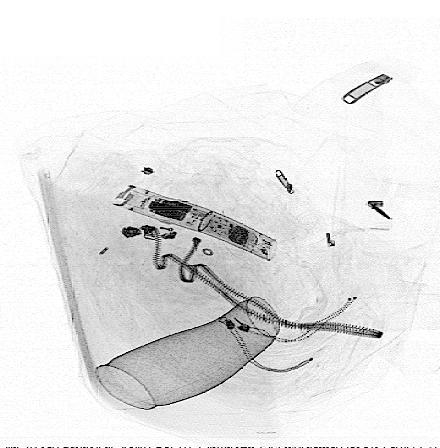Baton: (113, 184, 278, 263)
